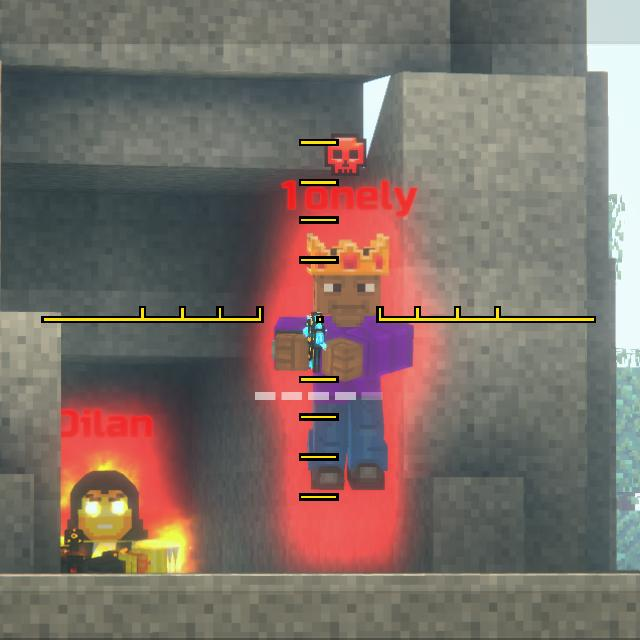Enemy: (269, 253, 411, 496), (60, 469, 190, 576)
